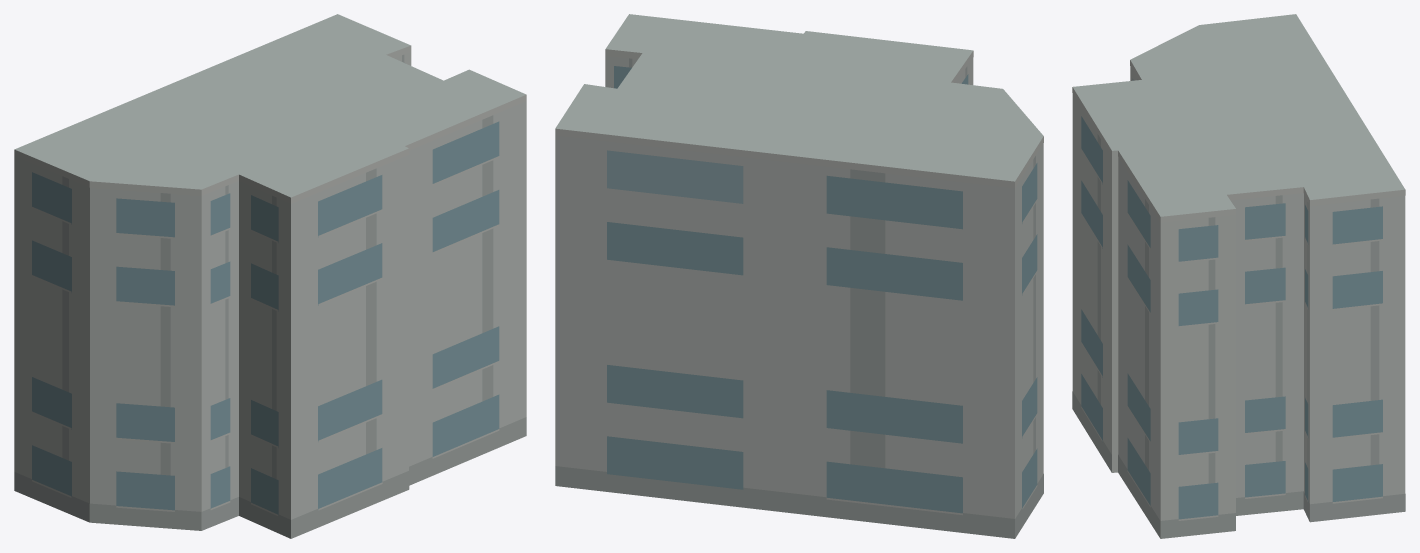
File: survey-upis-32692838.glb
3 renders of one model, left to right at view 1: azimuth 30°, elevation 25°; view 2: azimuth 150°, elevation 25°; view 3: azimuth 270°, elevation 25°, orthographic. The views are drawn at different scales.
Parts seen in each view (by area): view 1: survey-upis-32692838.tmp; view 2: survey-upis-32692838.tmp; view 3: survey-upis-32692838.tmp.
Boxes of the visible parts, box(x1,y1,x2,y2) form: survey-upis-32692838.tmp: box(14, 14, 526, 538); survey-upis-32692838.tmp: box(555, 14, 1043, 538); survey-upis-32692838.tmp: box(1072, 14, 1405, 538).
Bounding box in the file's own units: 17.57 × 13 × 12.19.
